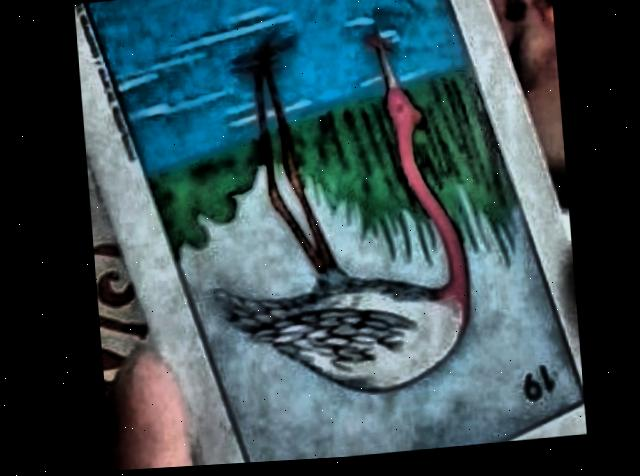La Garza: (87, 0, 578, 465)
